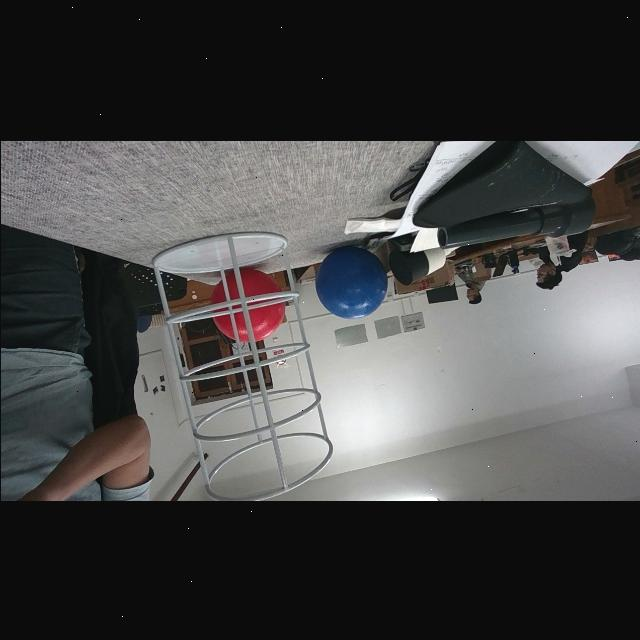B: (314, 245, 386, 319)
R: (208, 266, 284, 342)
S: (150, 230, 332, 500)
